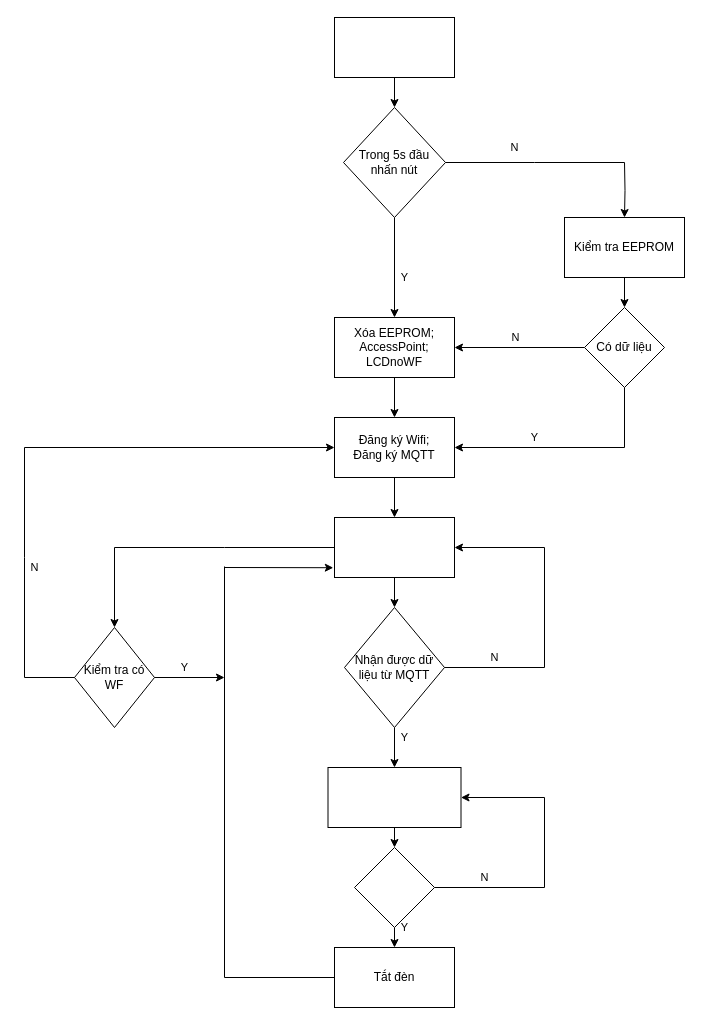
This 702x1025 diagram has some shape labels left out. Here are the shapes that lost their labels. From the top down, the centre of each, then its label:
At (x=394, y=47): "Khởi động".
At (x=394, y=547): "LCD hiển thị MQTT;".
At (x=394, y=797): "Nháy LED; Kiểm tra nút; Hiển thị dữ liệu MQTT;".
At (x=394, y=887): "Nhấn nút".
